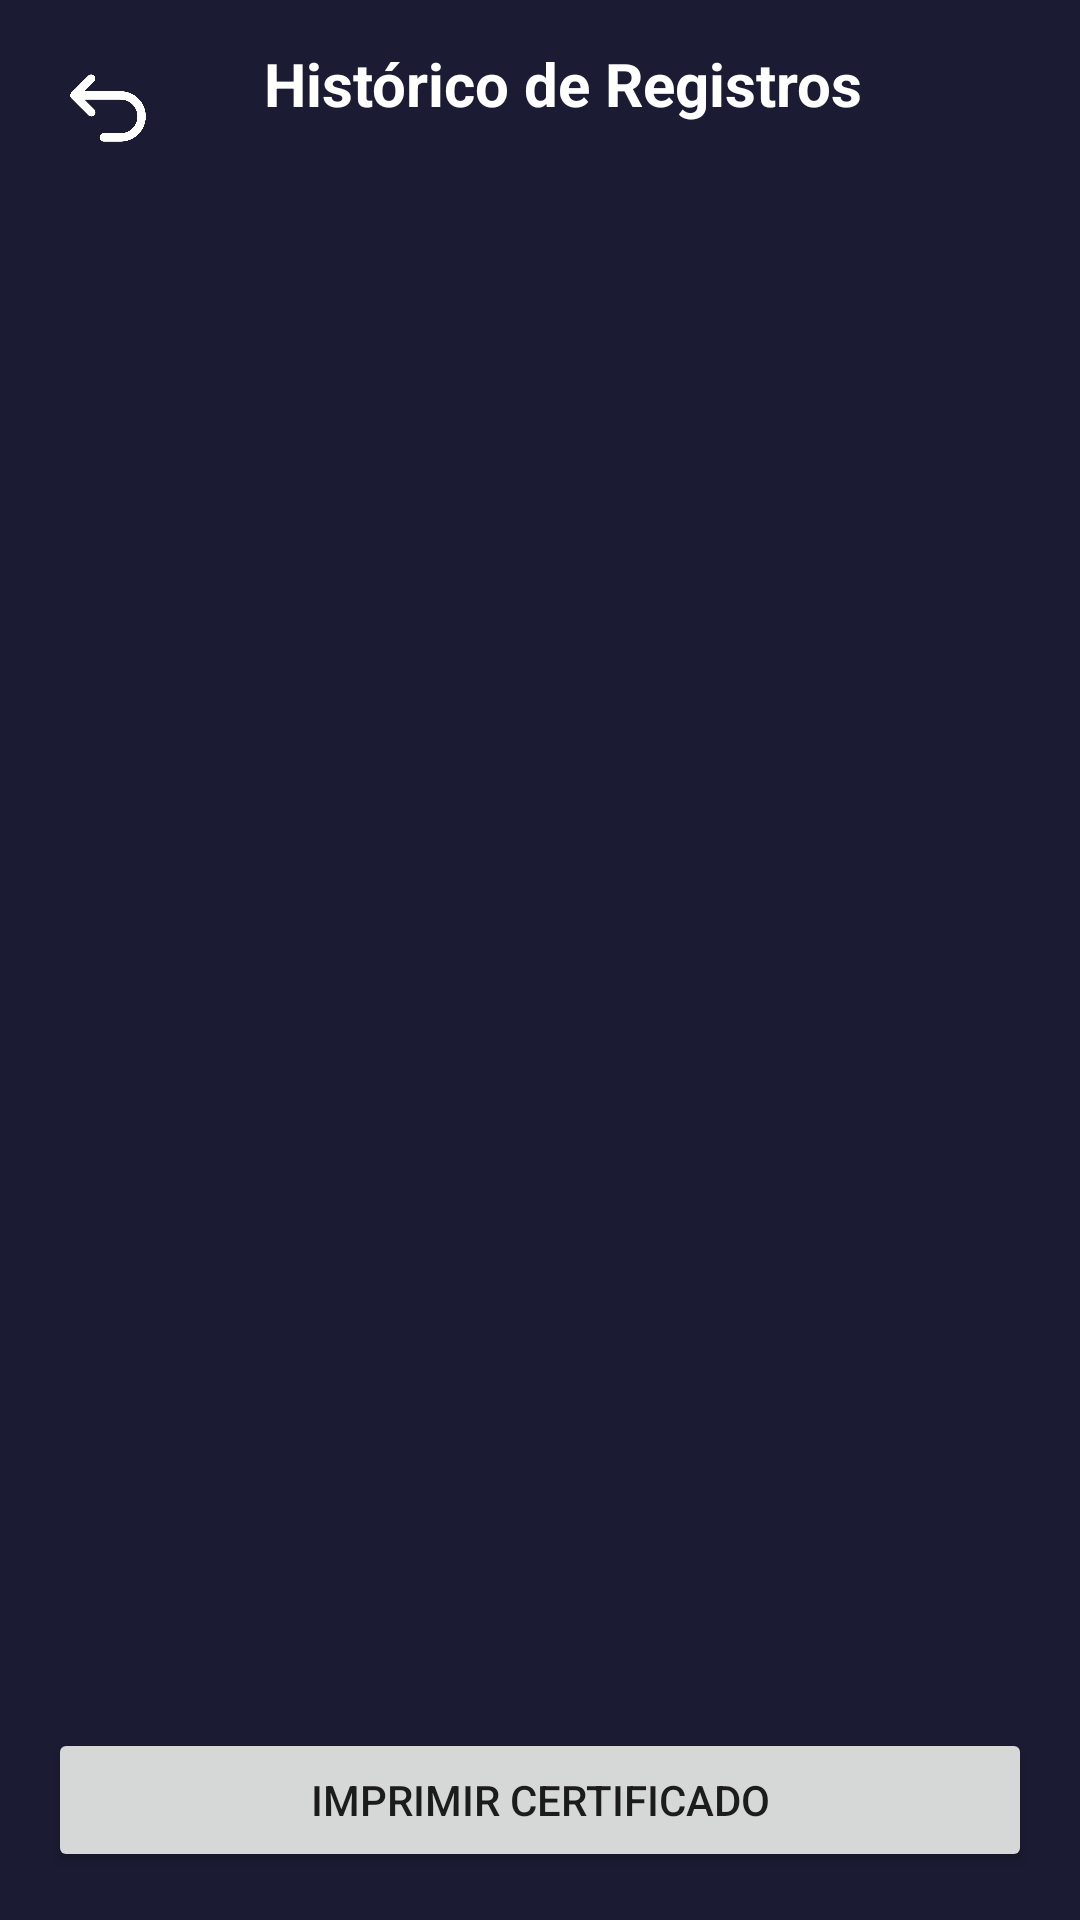

Named icons in this screenshot (1080x1920) and their centers, (x,y):
Voltar: (108,108)
